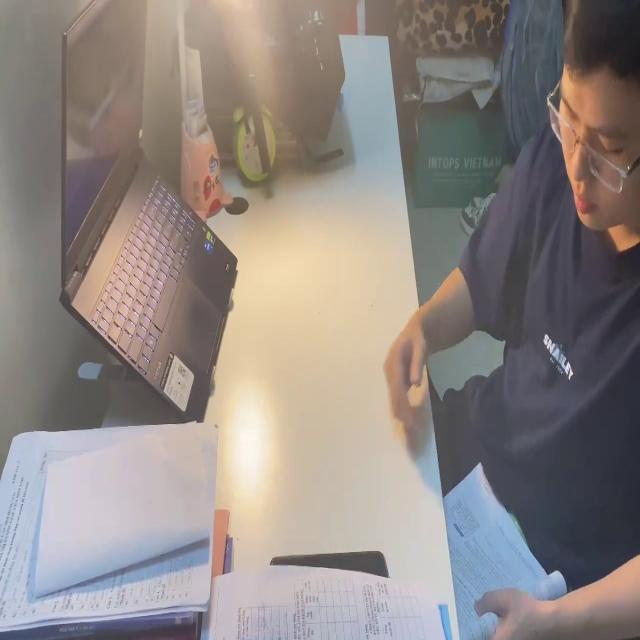book: (0, 428, 220, 640), (441, 458, 571, 640), (203, 566, 457, 640)
laptop: (58, 1, 239, 422)
phone: (273, 549, 391, 575)
student: (384, 0, 640, 640)
